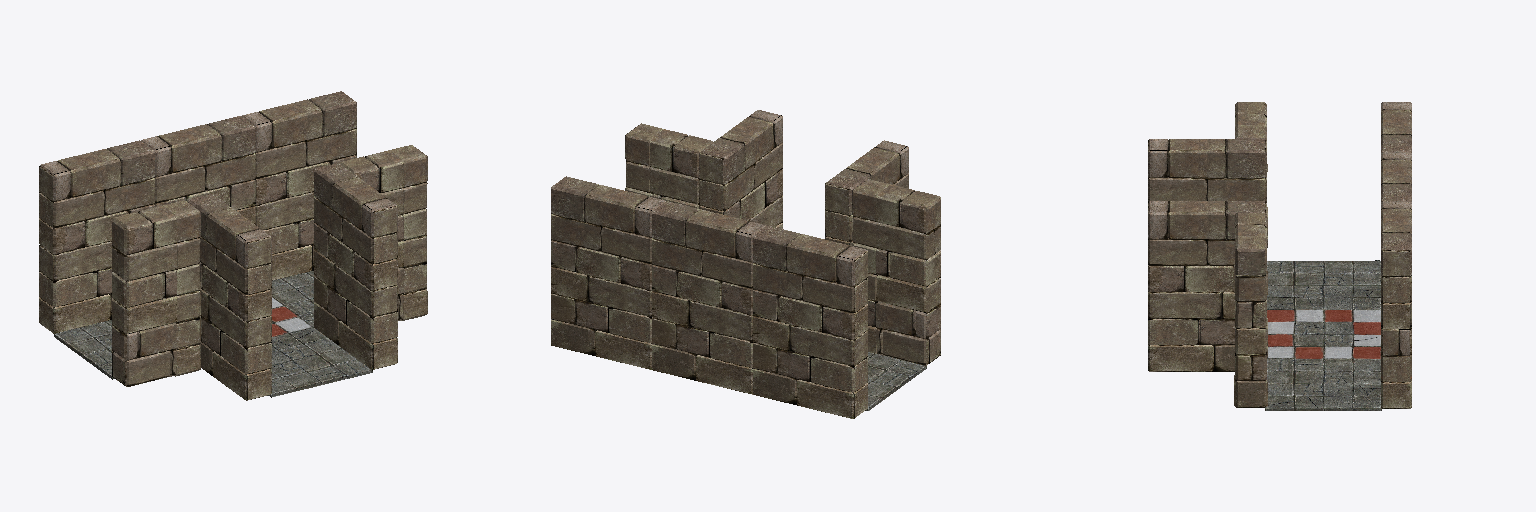
3 views of the same model, side by side, from view 1: azimuth 30°, elevation 25°; view 2: azimuth 150°, elevation 25°; view 3: azimuth 270°, elevation 25° (orthographic).
Visible parts, largest first — view 1: Box4150, Box4139, Box4149, Box3452, Box001ui004, Box4132, Box030, Box4148, Box4152, Box001ui006, Box024, Box026 (+1 smaller); view 2: Box4150, Box3452, Box4132, Box001ui004, Box4139, Box4149, Box001ui006, Box4148, Box024, Box4152; view 3: Box4139, Box4149, Box3452, Box026, Box4152, Box024, Box00234, Box4132, Box4150, Box001ui006, Box001ui004.
Part boxes in pixels (bbox=[...]): Box4150: bbox=[39, 140, 154, 333]; Box4139: bbox=[314, 163, 397, 369]; Box4149: bbox=[188, 194, 271, 400]; Box3452: bbox=[242, 91, 356, 280]; Box001ui004: bbox=[112, 206, 176, 386]; Box4132: bbox=[141, 116, 255, 224]; Box030: bbox=[268, 327, 372, 397]; Box4148: bbox=[163, 200, 200, 376]; Box4152: bbox=[389, 145, 427, 320]; Box001ui006: bbox=[340, 150, 403, 320]; Box024: bbox=[54, 320, 114, 379]; Box026: bbox=[272, 271, 313, 326]; Box4150: bbox=[753, 226, 867, 418]; Box3452: bbox=[551, 176, 665, 369]; Box4132: bbox=[652, 201, 766, 394]; Box001ui004: bbox=[876, 184, 940, 365]; Box4139: bbox=[699, 110, 782, 228]; Box4149: bbox=[825, 140, 908, 245]; Box001ui006: bbox=[649, 129, 712, 208]; Box4148: bbox=[852, 179, 890, 353]; Box024: bbox=[866, 352, 926, 410]; Box4152: bbox=[625, 123, 663, 196]; Box4139: bbox=[1148, 201, 1266, 371]; Box4149: bbox=[1148, 139, 1266, 201]; Box3452: bbox=[1381, 201, 1411, 408]; Box026: bbox=[1265, 359, 1381, 410]; Box4152: bbox=[1234, 236, 1267, 407]; Box024: bbox=[1267, 260, 1380, 309]; Box00234: bbox=[1267, 310, 1380, 358]; Box4132: bbox=[1381, 151, 1411, 201]; Box4150: bbox=[1381, 102, 1411, 152]; Box001ui006: bbox=[1235, 213, 1266, 237]; Box001ui004: bbox=[1235, 102, 1266, 126].
Bounding box in the file's own units: 6.05 × 3.08 × 4.54.
Materials: 3 (3 with a texture image).